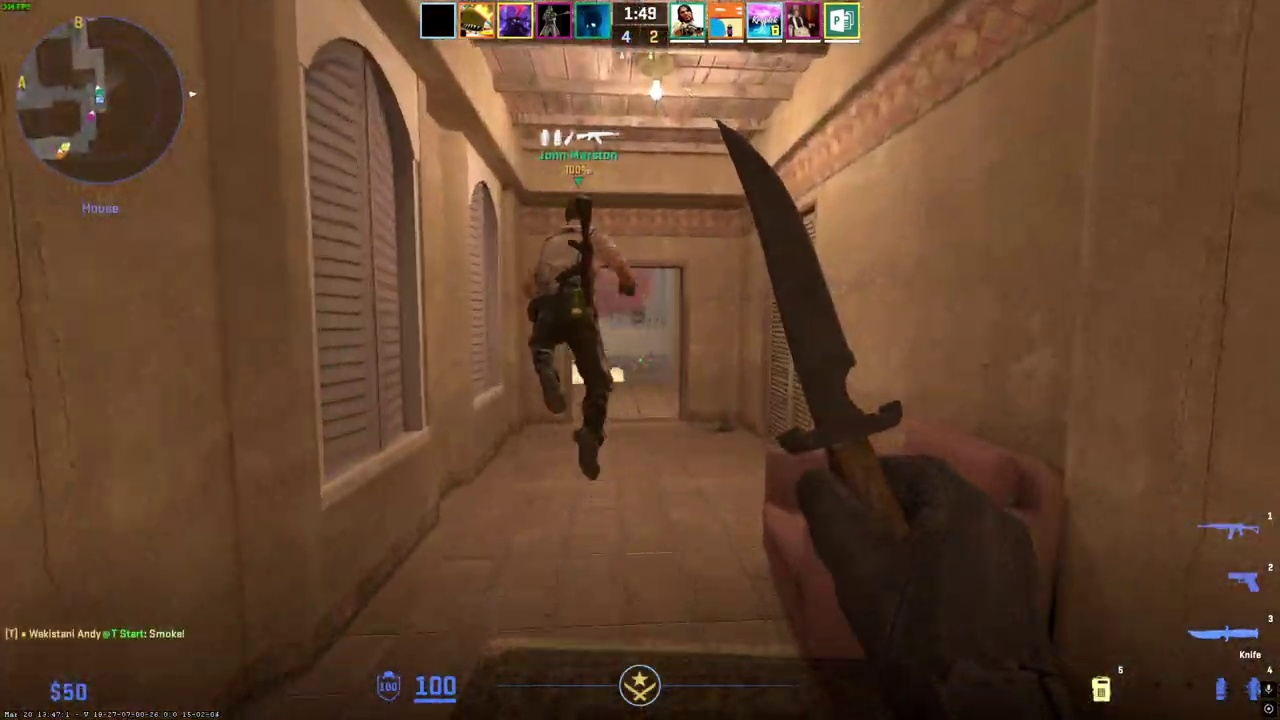Terrorist: (523, 195, 631, 479)
